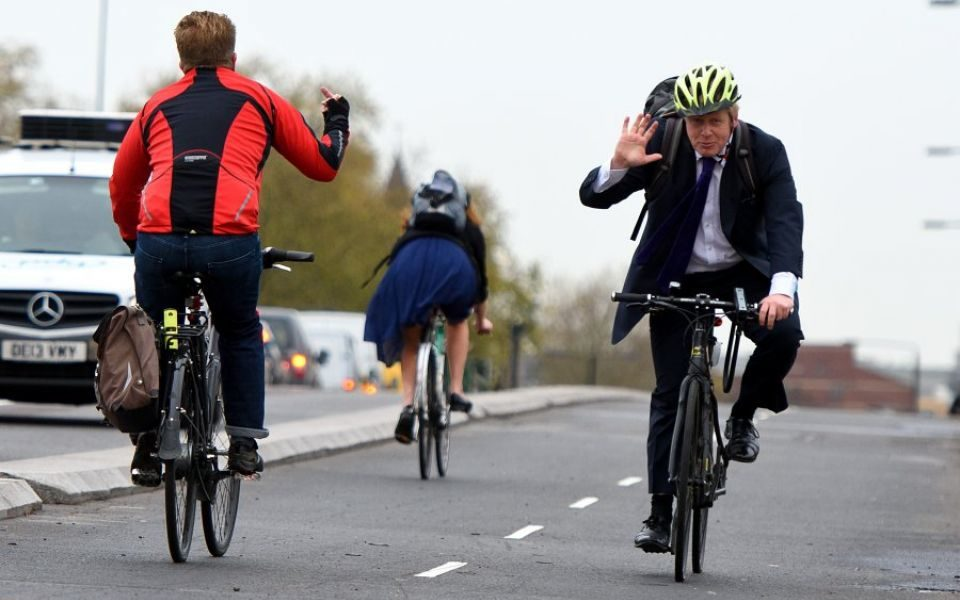commuter: (103, 4, 356, 571), (587, 58, 806, 590), (368, 171, 493, 487)
